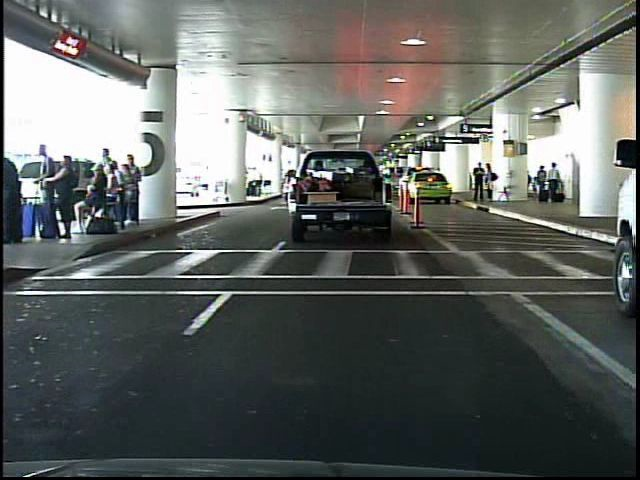person: (472, 159, 486, 206), (481, 163, 497, 204)
